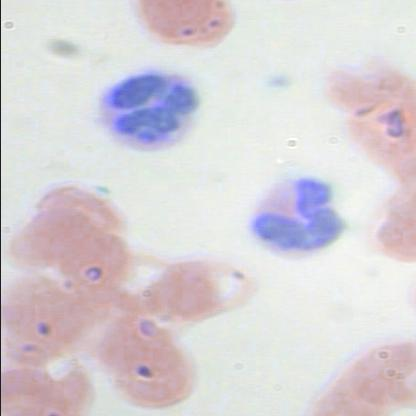Platelets: (264, 68, 298, 96)
RBC: (156, 254, 254, 322), (107, 346, 205, 414), (128, 0, 241, 52), (5, 204, 89, 268), (1, 359, 54, 415)
WBC: (243, 170, 351, 262), (88, 66, 196, 158)
